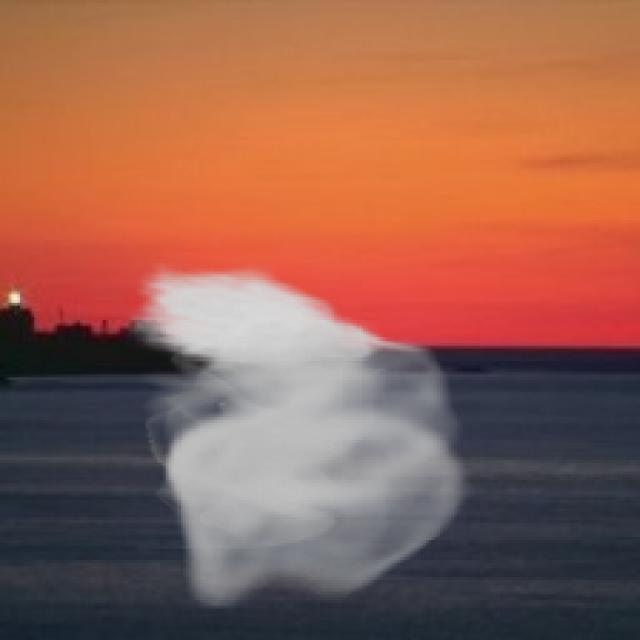smoke: (123, 263, 477, 608)
